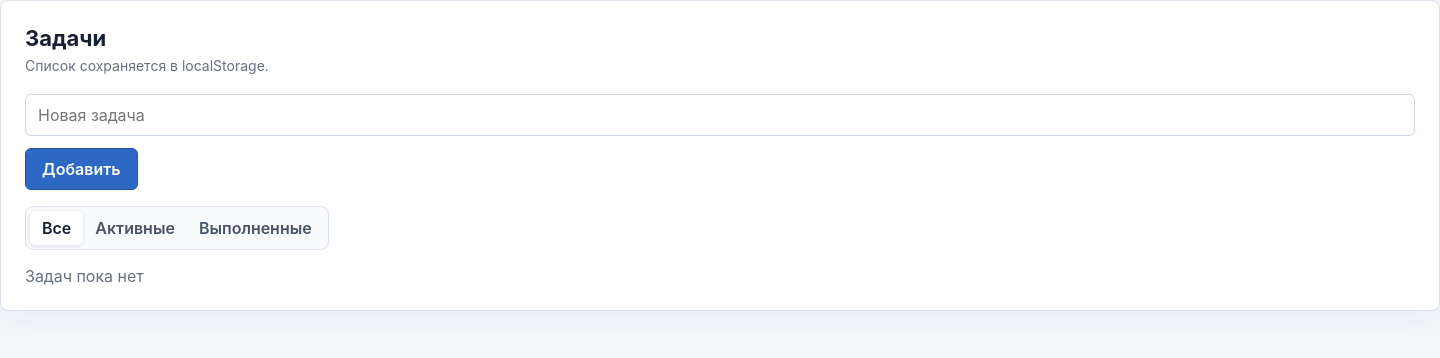
Test: TodoList › creates a todo
The width and height of the screenshot is (1440, 358).
In the field with placeholder "Новая задача": (720, 115) [25,94,1415,136], type "Prepare review"
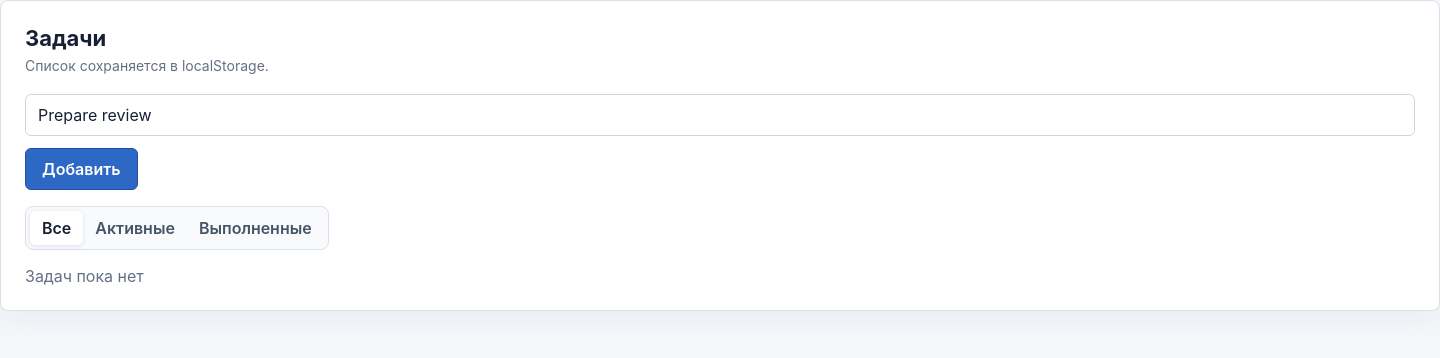
Submit the form, box [25,94,1415,190]
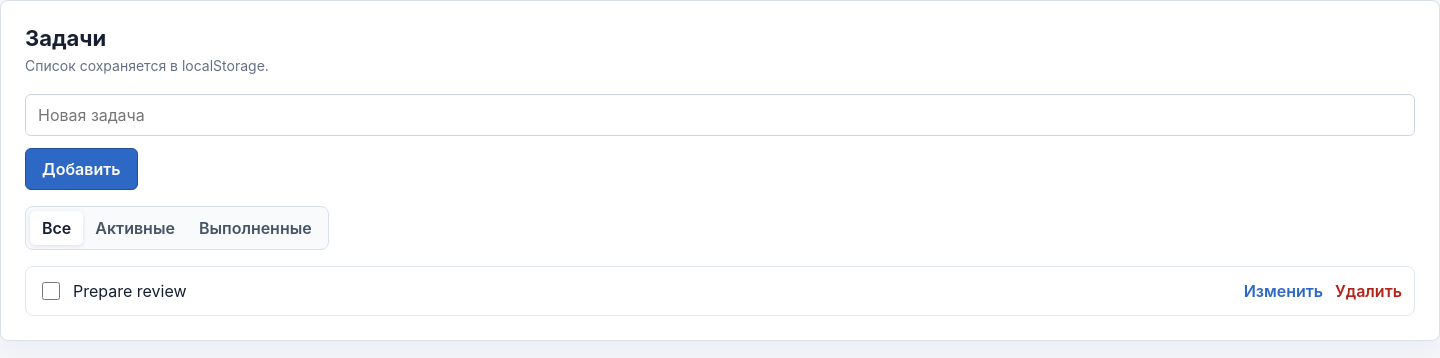
Check: the text "Prepare review" is shown, box [73,281,187,301]
